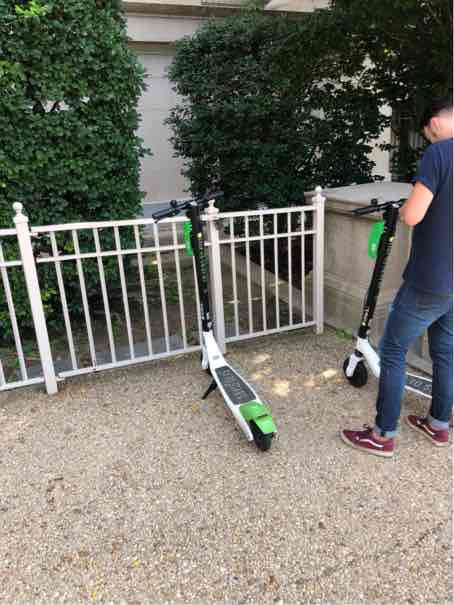scooter: (145, 196, 293, 458)
